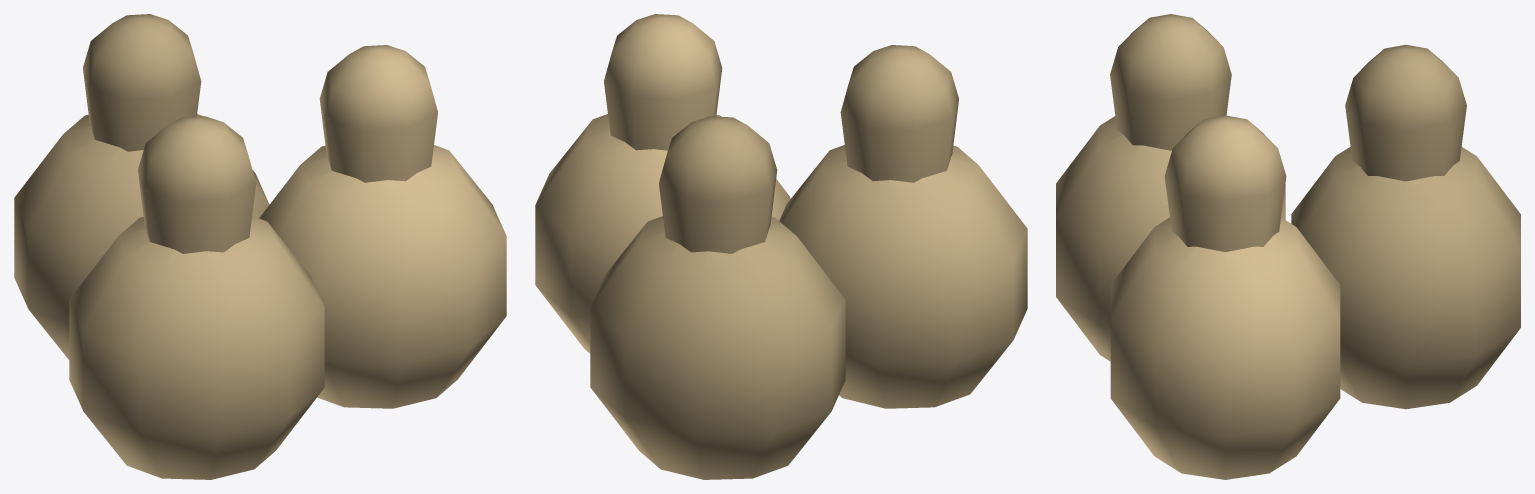
File: sacks.fbx
3 renders of one model, left to right at view 1: azimuth 30°, elevation 25°; view 2: azimuth 150°, elevation 25°; view 3: azimuth 270°, elevation 25°, orthographic.
Visible parts, largest first — view 1: sacks; view 2: sacks; view 3: sacks.
Part boxes in pixels (x1,y1,x2,y2): sacks: (14,14,506,479); sacks: (535,14,1027,479); sacks: (1056,14,1520,479).
Bounding box in the file's own units: 0.087 × 0.067 × 0.0808.
